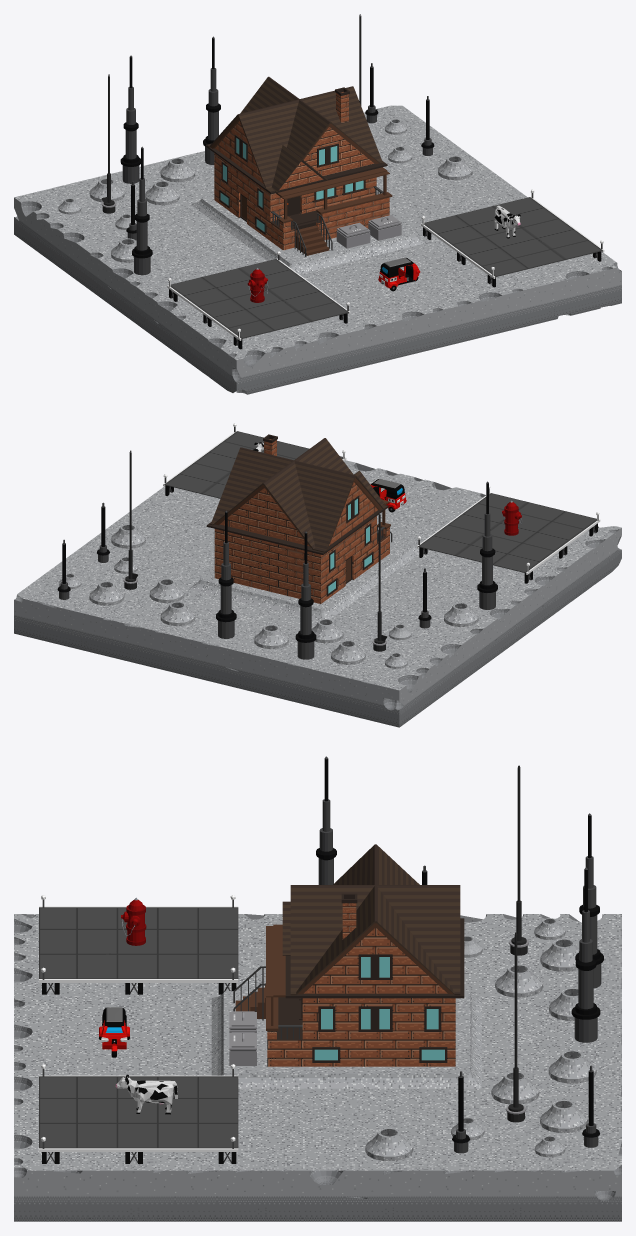
3 views of the same model, one above another, from view 1: azimuth 30°, elevation 25°; view 2: azimuth 150°, elevation 25°; view 3: azimuth 270°, elevation 25° (orthographic). The views are drawn at different scales.
Visible parts, largest first — view 1: Cube.027, Cube.469, Cube.025, Cube.026, Cube.028, Cylinder.020, Cylinder.021, Cylinder.017, VEHICLES_TUC_TUC, Cube.029, Cube.030, Cylinder.027 (+5 smaller); view 2: Cube.027, Cube.469, Cube.025, Cube.028, Cube.026, Cylinder.020, Cylinder.021, Cylinder.017, VEHICLES_TUC_TUC, Cylinder.031, Cylinder.028, Cylinder.029 (+8 smaller); view 3: Cube.027, Cube.469, Cube.025, Cube.026, Cube.028, Cylinder.017, Cylinder.020, Cylinder.021, ANIMAL_VACA, Cylinder.033, Cylinder.031, VEHICLES_TUC_TUC (+11 smaller).
Part boxes in pixels (box(x1,y1,x2,y2)): Cube.027: box(14, 105, 621, 394); Cube.469: box(205, 76, 392, 256); Cube.025: box(167, 251, 350, 349); Cube.026: box(421, 189, 604, 287); Cube.028: box(191, 195, 424, 274); Cylinder.020: box(120, 55, 140, 183); Cylinder.021: box(132, 146, 152, 275); Cylinder.017: box(203, 36, 220, 164); VEHICLES_TUC_TUC: box(378, 257, 420, 291); Cube.029: box(336, 222, 370, 248); Cube.030: box(368, 215, 401, 240); Cylinder.027: box(160, 158, 195, 182); Cube.027: box(14, 460, 621, 727); Cube.469: box(206, 434, 392, 603); Cube.025: box(417, 485, 600, 583); Cube.028: box(190, 538, 419, 620); Cube.026: box(163, 423, 346, 498); Cylinder.020: box(295, 531, 316, 659); Cylinder.021: box(477, 481, 497, 609); Cylinder.017: box(216, 510, 236, 638); VEHICLES_TUC_TUC: box(370, 479, 406, 512); Cylinder.031: box(89, 581, 124, 605); Cylinder.028: box(331, 640, 365, 664); Cylinder.029: box(160, 601, 195, 626); Cube.027: box(14, 914, 621, 1221); Cube.469: box(233, 844, 464, 1066); Cube.025: box(39, 895, 238, 994); Cube.026: box(39, 1064, 238, 1163); Cube.028: box(211, 991, 481, 1088); Cylinder.017: box(571, 867, 600, 1042); Cylinder.020: box(575, 813, 603, 988); Cylinder.021: box(316, 756, 336, 884); ANIMAL_VACA: box(115, 1074, 177, 1114); Cylinder.033: box(365, 1128, 413, 1160); Cylinder.031: box(540, 1100, 587, 1132); VEHICLES_TUC_TUC: box(99, 1007, 129, 1057).
Size of the model in its own units: 4000 by 1799 by 4000.
33 materials, 5 textured.
